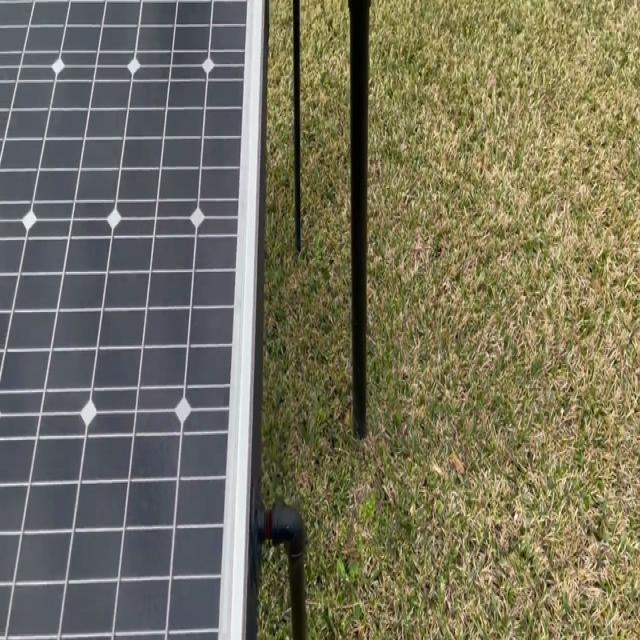Normal Solar Panel: (0, 1, 263, 638)
